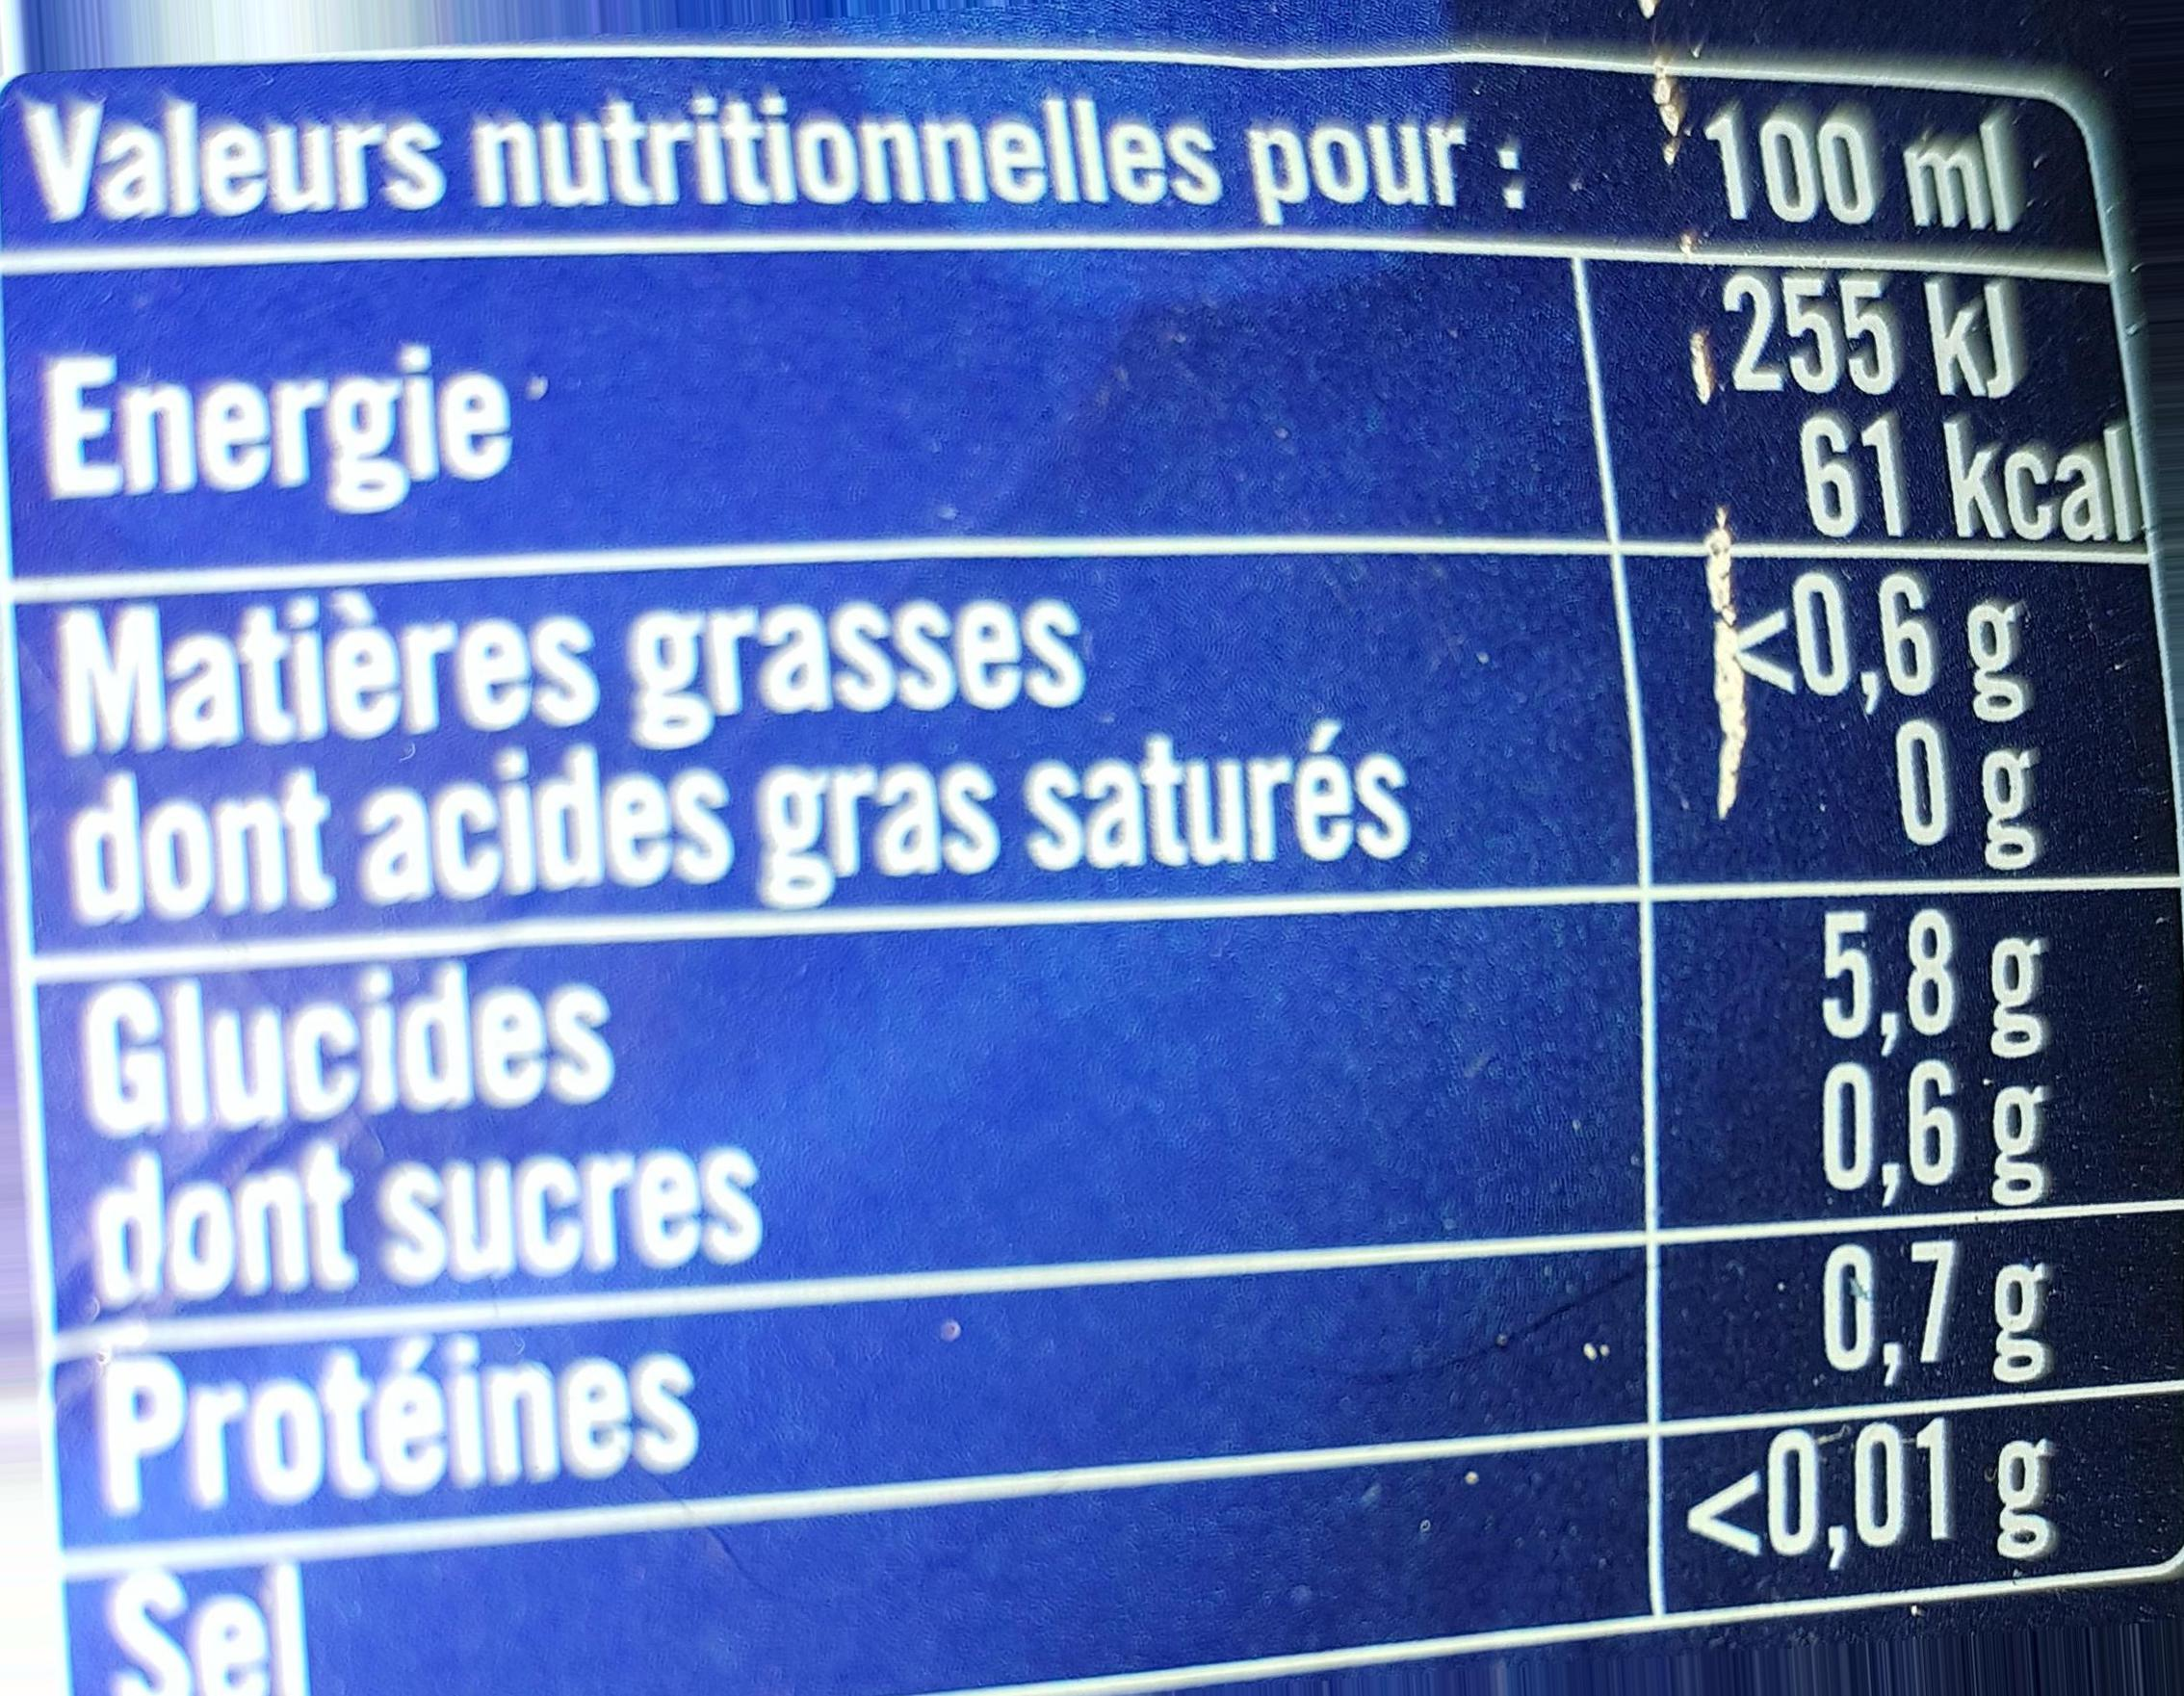column: (41, 94, 1539, 1696), (1684, 115, 2145, 1575)
line: (48, 946, 2058, 1225), (35, 284, 2133, 542), (113, 1469, 2101, 1694), (99, 1281, 2046, 1446), (32, 92, 2012, 229), (66, 759, 2044, 890), (58, 592, 2028, 723)
table: (4, 73, 2184, 1696)
